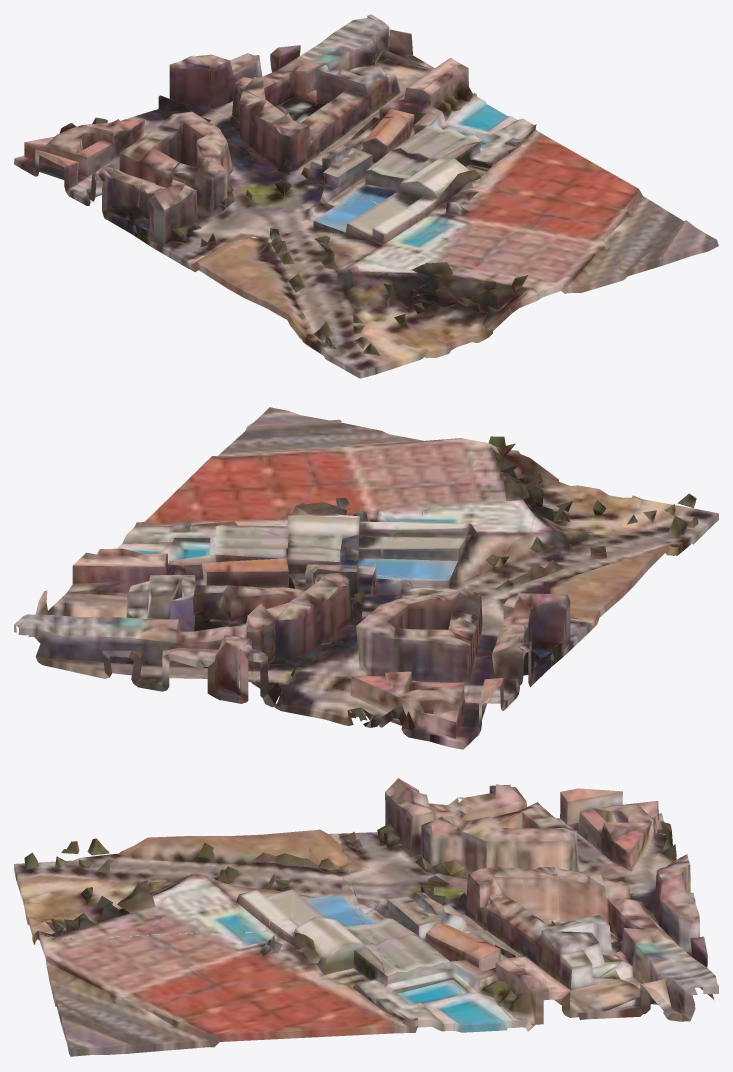
The picture shows the model from 3 angles, top to bottom: view 1: azimuth 30°, elevation 25°; view 2: azimuth 150°, elevation 25°; view 3: azimuth 270°, elevation 25°; orthographic projection. The views are drawn at different scales.
Parts seen in each view (by area): view 1: Mesh_0; view 2: Mesh_0; view 3: Mesh_0.
Boxes of the visible parts, <box> form: Mesh_0: <box>14,14,718,378</box>; Mesh_0: <box>14,407,718,749</box>; Mesh_0: <box>14,778,718,1057</box>.
Size of the model in its own units: 267 by 43.74 by 330.
Materials: 2 (2 with a texture image).
